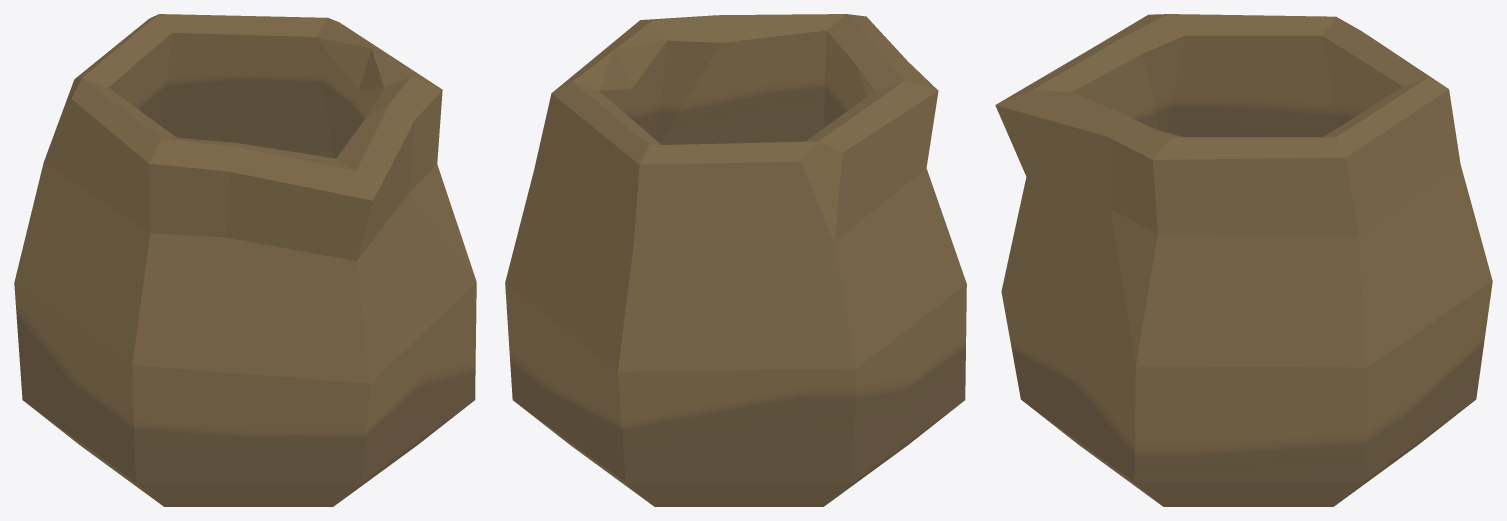
Rendered from samurai_SM_Prop_Tea_Jug_01.gltf.
The picture shows the model from 3 angles, left to right: view 1: azimuth 30°, elevation 25°; view 2: azimuth 150°, elevation 25°; view 3: azimuth 270°, elevation 25°; orthographic projection.
Parts seen in each view (by area): view 1: SM_Prop_Tea_Jug_01; view 2: SM_Prop_Tea_Jug_01; view 3: SM_Prop_Tea_Jug_01.
Boxes of the visible parts, x1=… form: SM_Prop_Tea_Jug_01: x1=14, y1=14, x2=476, y2=506; SM_Prop_Tea_Jug_01: x1=505, y1=14, x2=966, y2=506; SM_Prop_Tea_Jug_01: x1=995, y1=14, x2=1492, y2=506.
Bounding box in the file's own units: 0.1446 × 0.1441 × 0.1763.
1 material, 1 textured.
